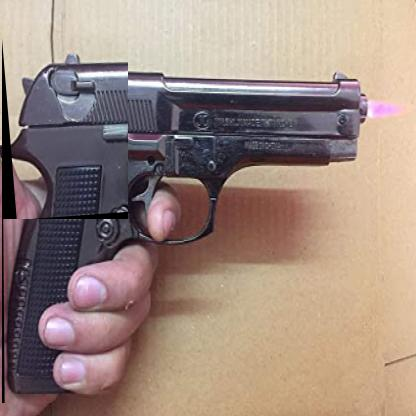gun: (2, 47, 376, 404), (2, 38, 129, 220)
